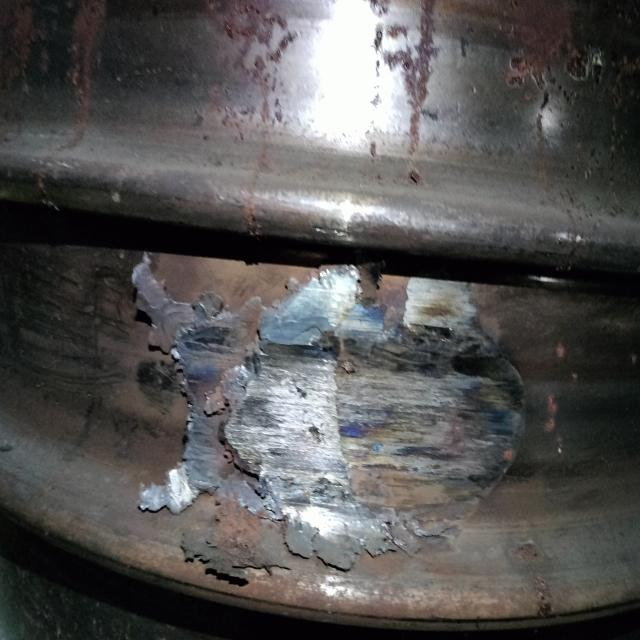Blue hole: (404, 166, 430, 196)
Rollerpile: (113, 232, 540, 590)
flat: (301, 322, 543, 520)
